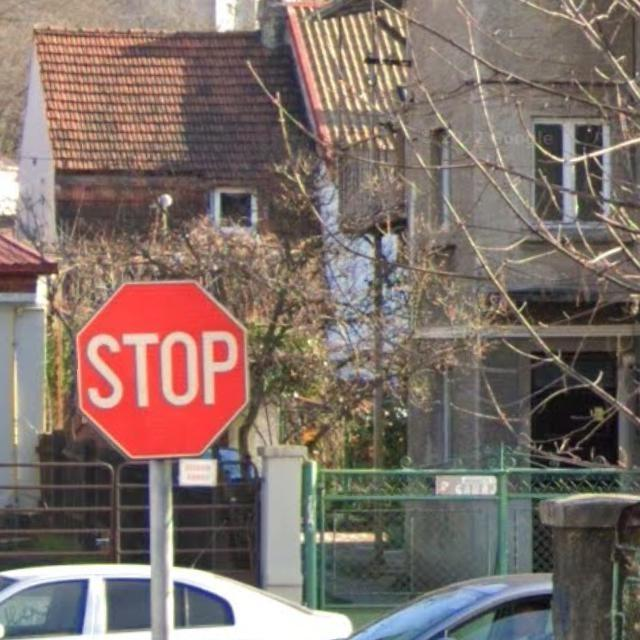prio_stop: (72, 281, 250, 460)
